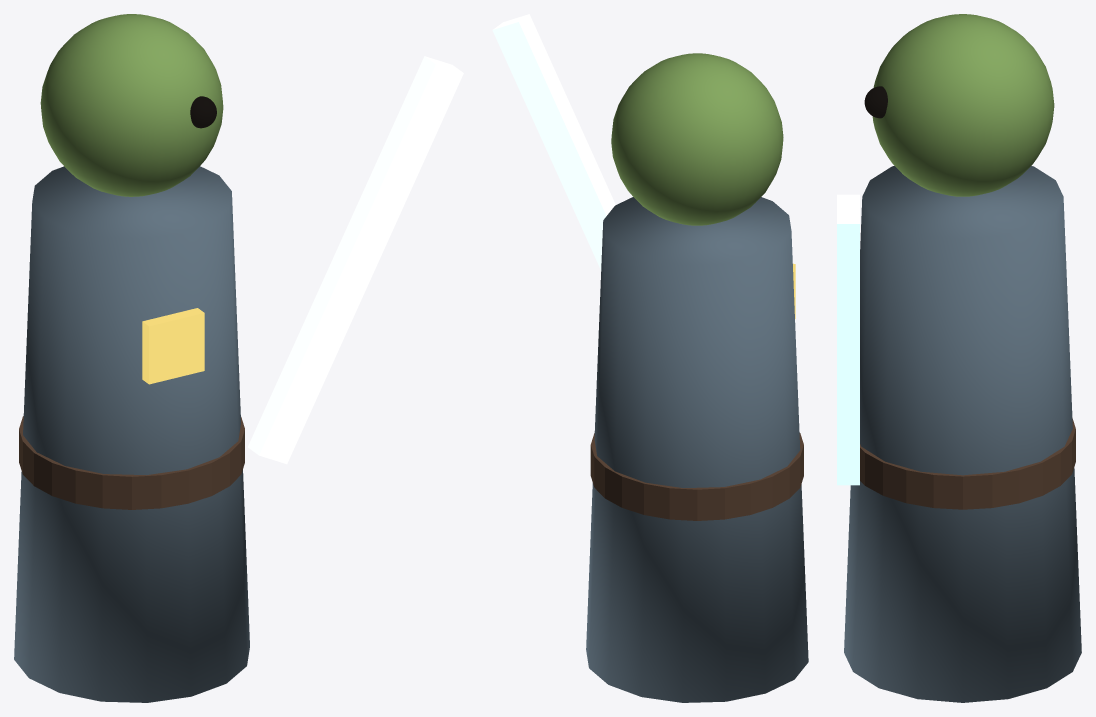
Rendered from glowing.glb.
3 views of the same model, side by side, from view 1: azimuth 30°, elevation 25°; view 2: azimuth 150°, elevation 25°; view 3: azimuth 270°, elevation 25° (orthographic). The views are drawn at different scales.
Parts seen in each view (by area): view 1: Body, Head, Blade, Belt, Badge, Pupil; view 2: Body, Head, Blade, Belt; view 3: Body, Head, Belt, Blade, Pupil.
Boxes of the visible parts, x1,y1,x2,y2 form: Body: (14,166,249,702); Head: (40,14,223,196); Blade: (248,56,463,464); Belt: (19,416,244,509); Badge: (142,308,204,384); Pupil: (190,96,216,128); Body: (586,197,808,702); Head: (611,53,783,225); Blade: (492,14,615,270); Belt: (590,433,803,520); Body: (844,166,1081,702); Head: (872,14,1054,196); Belt: (860,418,1075,509); Blade: (837,194,859,485); Pupil: (864,86,887,118).
Bounding box in the file's own units: 0.9383 × 1.52 × 0.535.
